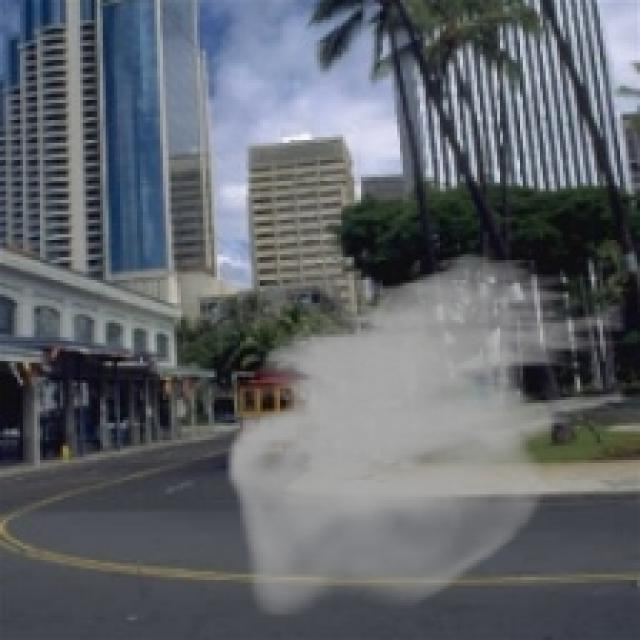Smoke: (225, 248, 626, 618)
